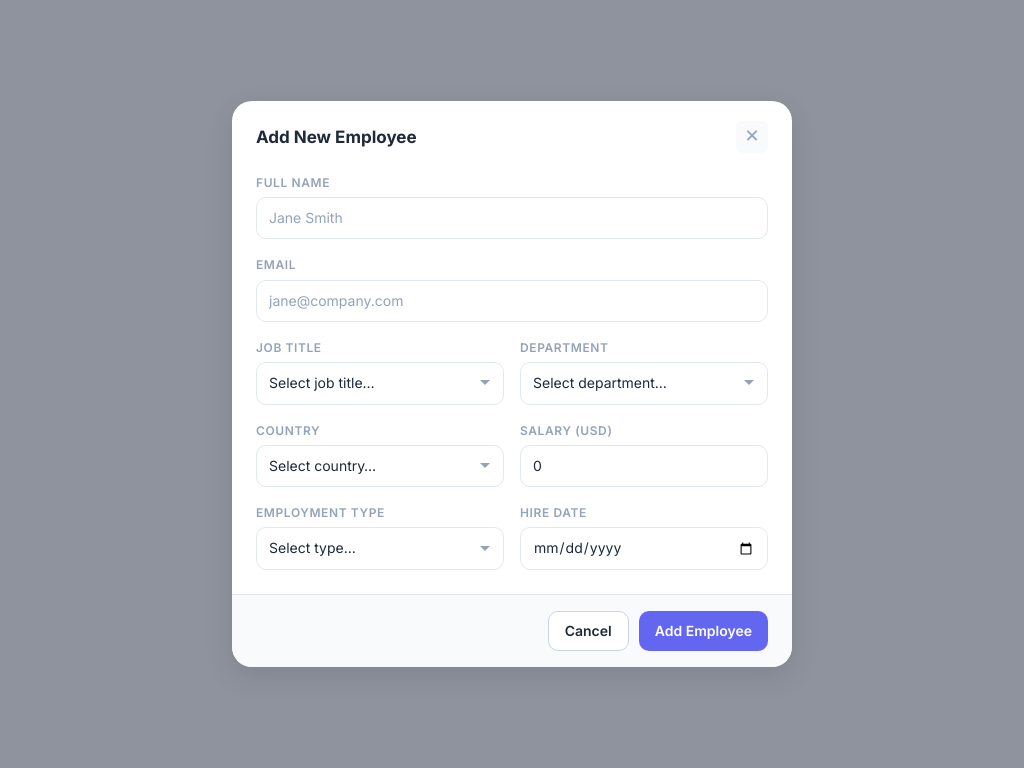
submit_with_negative_salary_shows_error
Type "-100" into the number field labelled "Salary (USD)" at (644, 466), box [520,445,768,487]
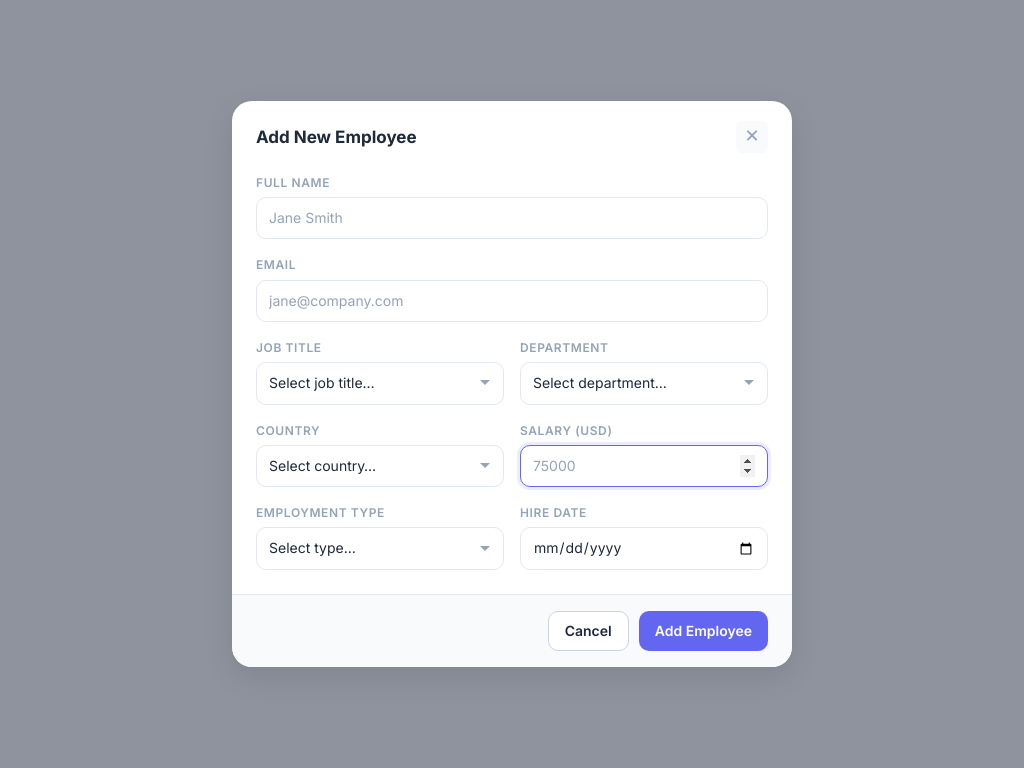
Click the button "Add Employee" at (703, 631), box [639,611,768,651]
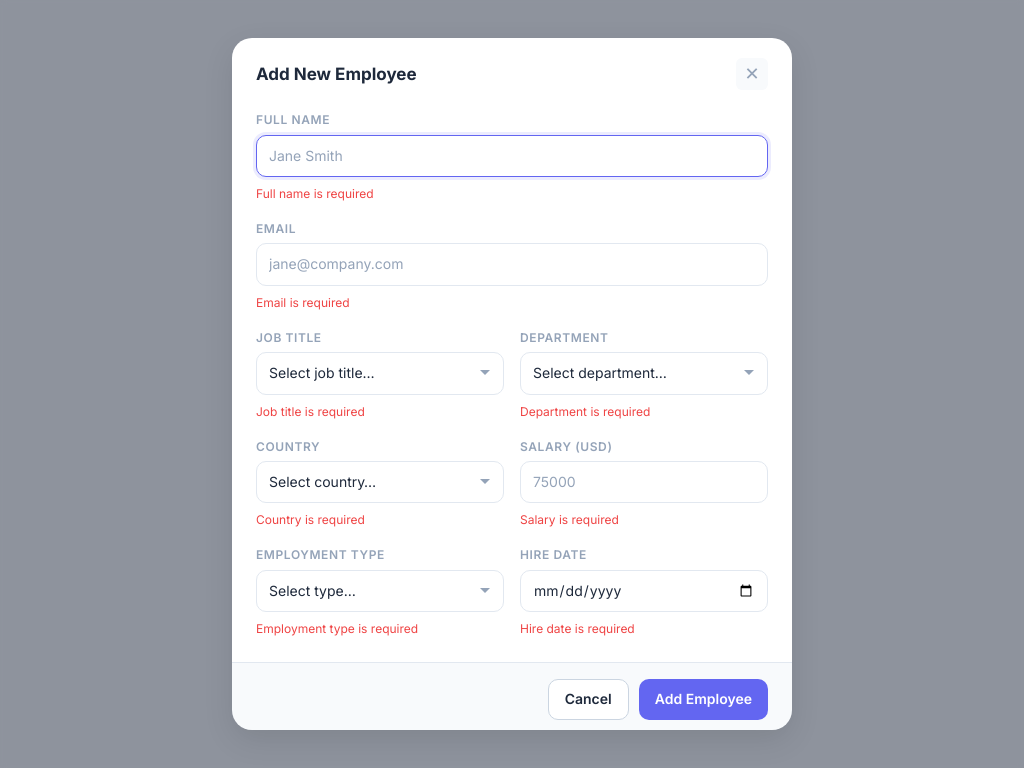
Expected: the text "Salary is required" is shown, [520,512,619,527]
